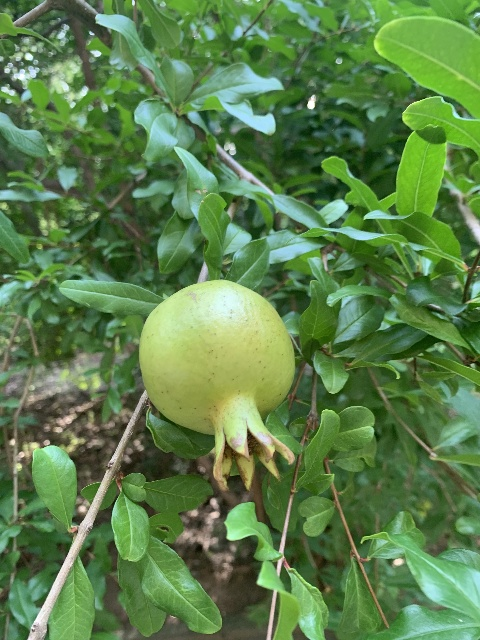mid-growth: (138, 278, 296, 492)
